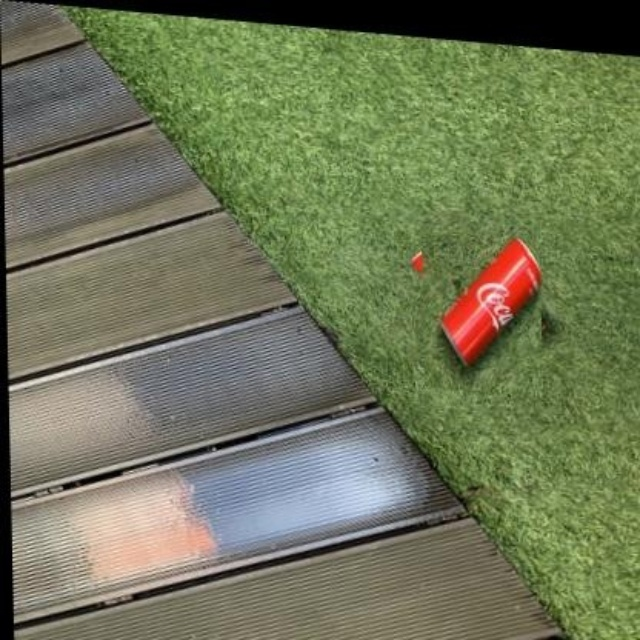trash: (442, 238, 540, 365)
